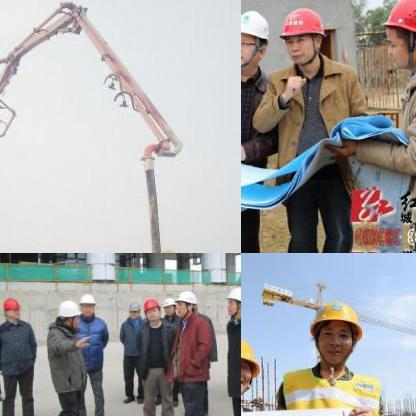Helmet: (304, 298, 362, 370), (278, 2, 330, 63), (380, 0, 415, 71), (241, 8, 270, 71), (241, 329, 260, 400), (55, 298, 81, 332), (174, 288, 200, 320), (0, 294, 22, 323), (222, 283, 240, 317), (76, 291, 96, 317), (142, 297, 160, 322), (125, 300, 141, 320), (160, 295, 176, 315), (157, 246, 174, 252)
